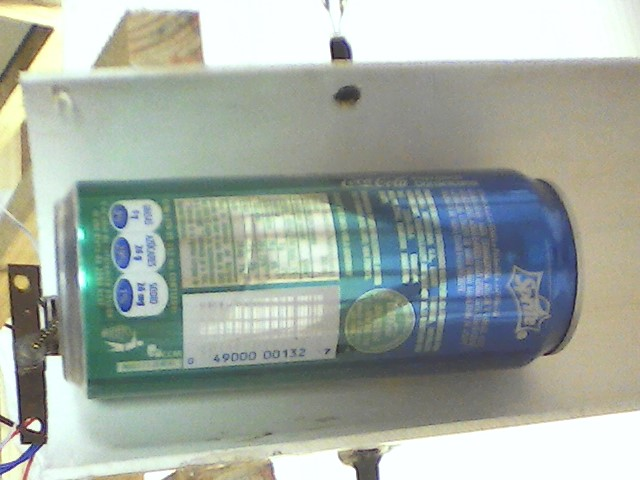lata: (49, 161, 591, 403)
